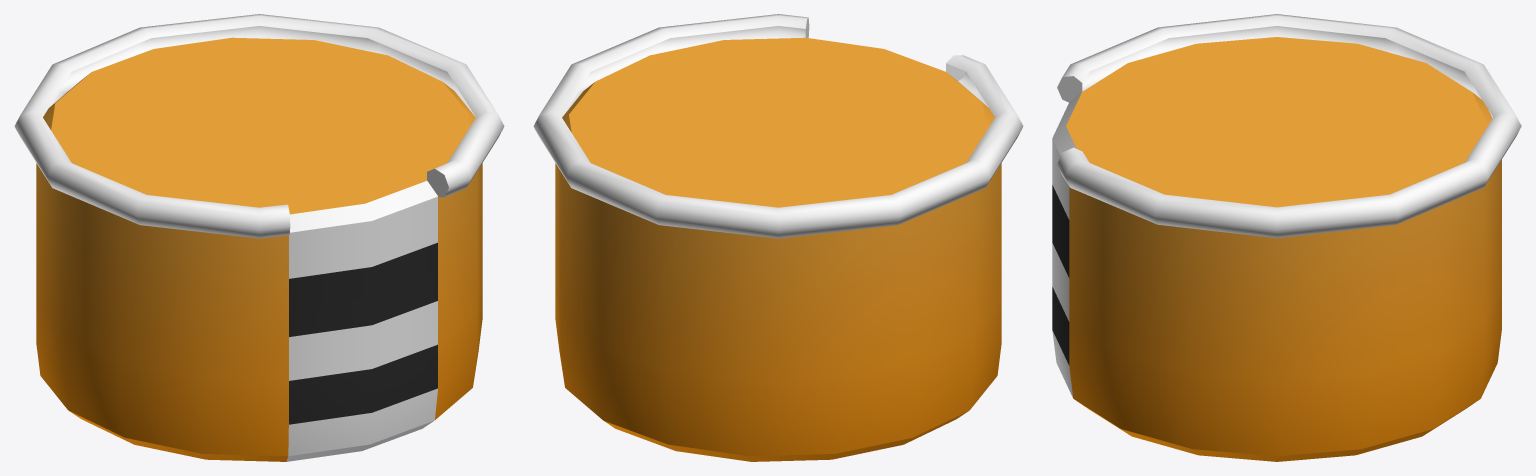
File: Body_Dress_12.fbx
The picture shows the model from 3 angles, left to right: view 1: azimuth 30°, elevation 25°; view 2: azimuth 150°, elevation 25°; view 3: azimuth 270°, elevation 25°; orthographic projection.
Visible parts, largest first — view 1: Body_Dress_12; view 2: Body_Dress_12; view 3: Body_Dress_12.
Boxes of the visible parts, bbox=[...] form: Body_Dress_12: bbox=[14, 14, 504, 461]; Body_Dress_12: bbox=[533, 14, 1023, 461]; Body_Dress_12: bbox=[1052, 14, 1521, 461].
Bounding box in the file's own units: 109 × 64.65 × 104.
